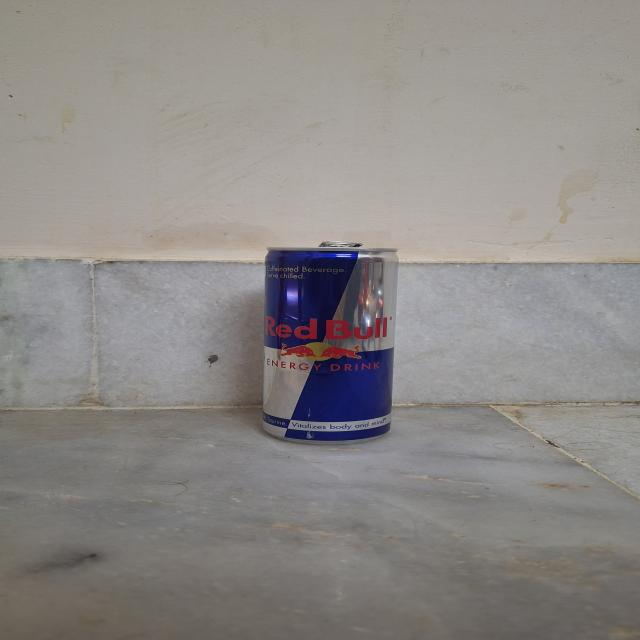Redbul: (229, 235, 430, 458)
